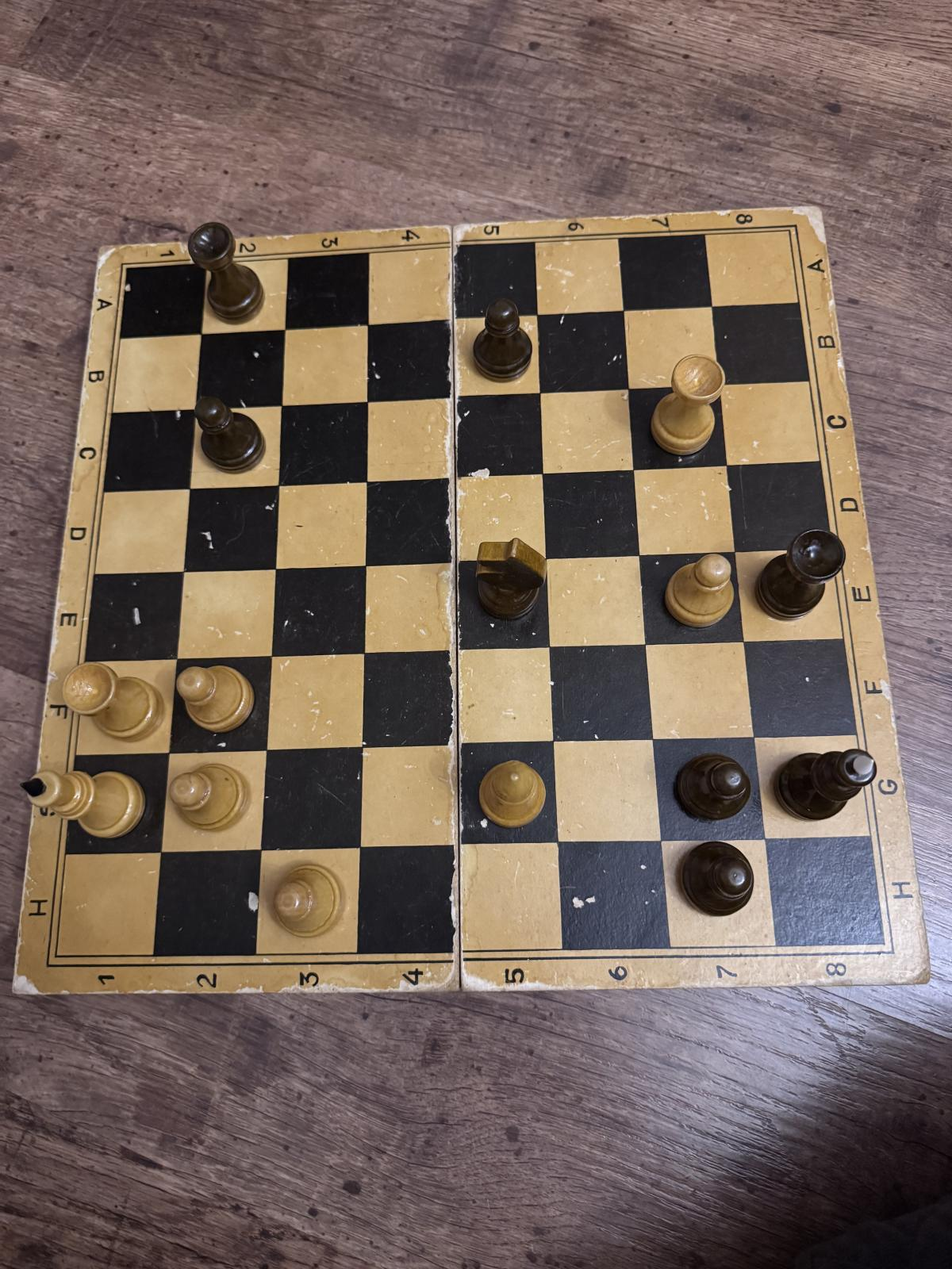Chess-Board: (55, 230, 884, 957)
